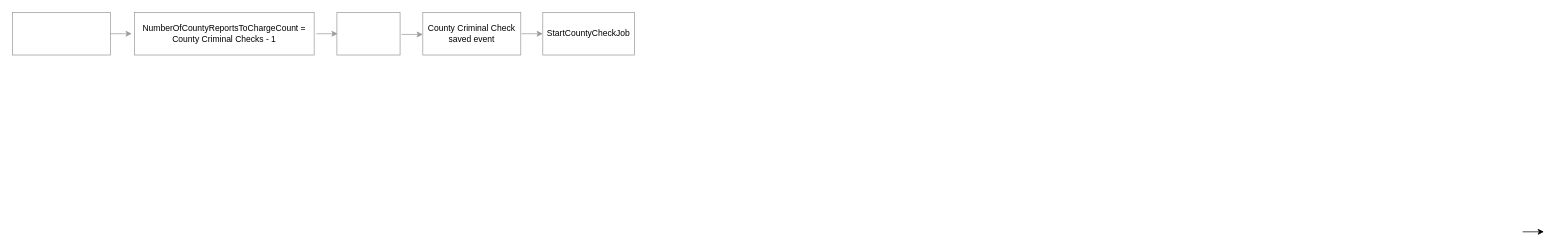
The diagram is 1562 pixels wide and 250 high, and some of its shapes have lost their labels. The shapes that lost their labels are listed below. From the top down, each one's centre as x and y in pixels, then its label:
the point at 61,33: CountyAddonController invoked
the point at 368,33: OrderCounties
